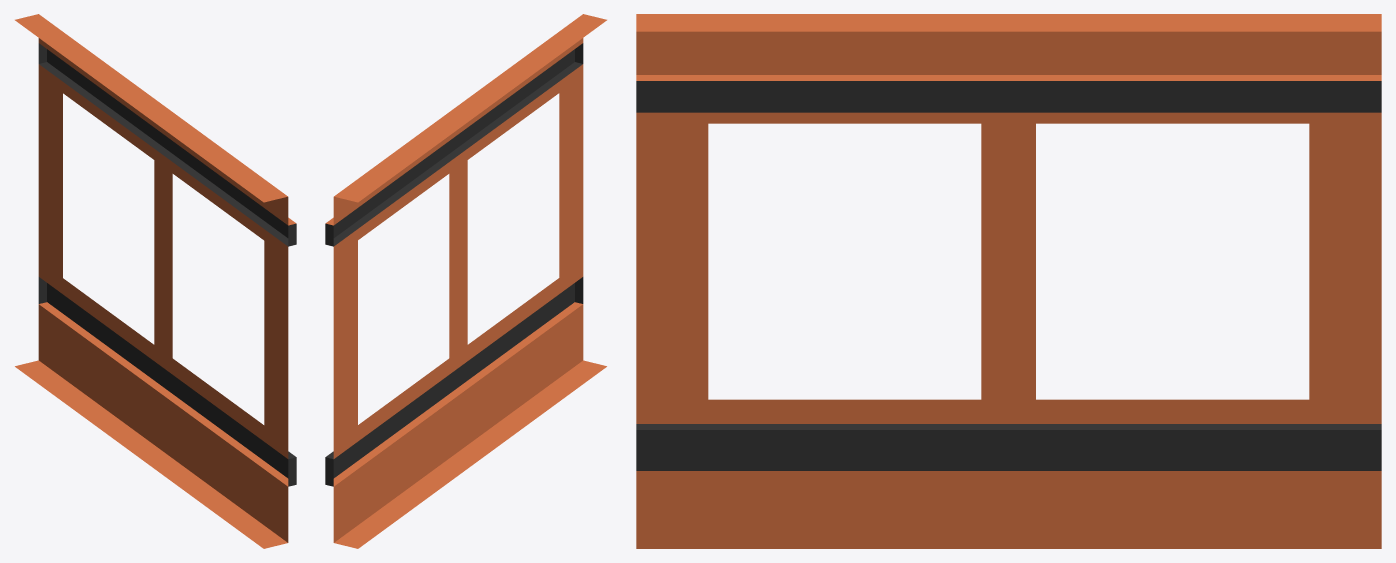
Rendered from scianaOkna.fbx.
3 renders of one model, left to right at view 1: azimuth 30°, elevation 25°; view 2: azimuth 150°, elevation 25°; view 3: azimuth 270°, elevation 25°, orthographic. The views are drawn at different scales.
Visible parts, largest first — view 1: Cube.195; view 2: Cube.195; view 3: Cube.195.
Boxes of the visible parts, x1=… form: Cube.195: x1=15, y1=14, x2=296, y2=548; Cube.195: x1=325, y1=14, x2=606, y2=548; Cube.195: x1=636, y1=14, x2=1381, y2=548.
Bounding box in the file's own units: 97.38 × 984 × 1285.
